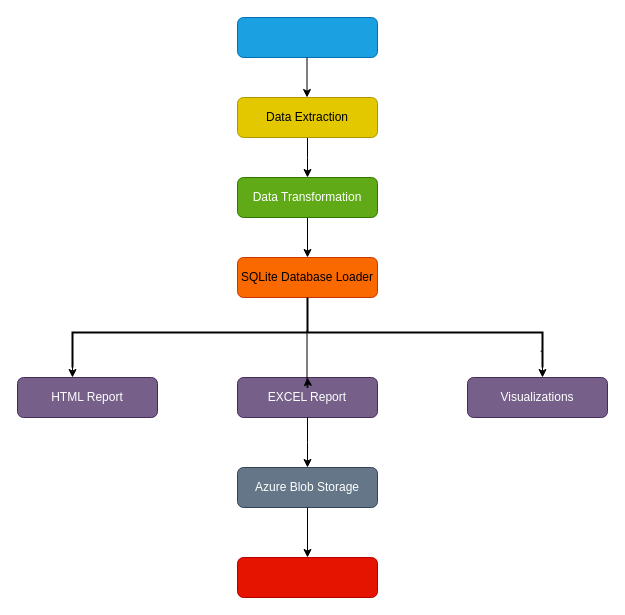
This 625x615 diagram has some shape labels left out. The shapes that lost their labels are listed below. From the top down, each one's box as (x1, y1, x2, y2) in pixels, then its label:
(236, 16, 378, 58): CSV File
(236, 556, 378, 598): Email Notifications
